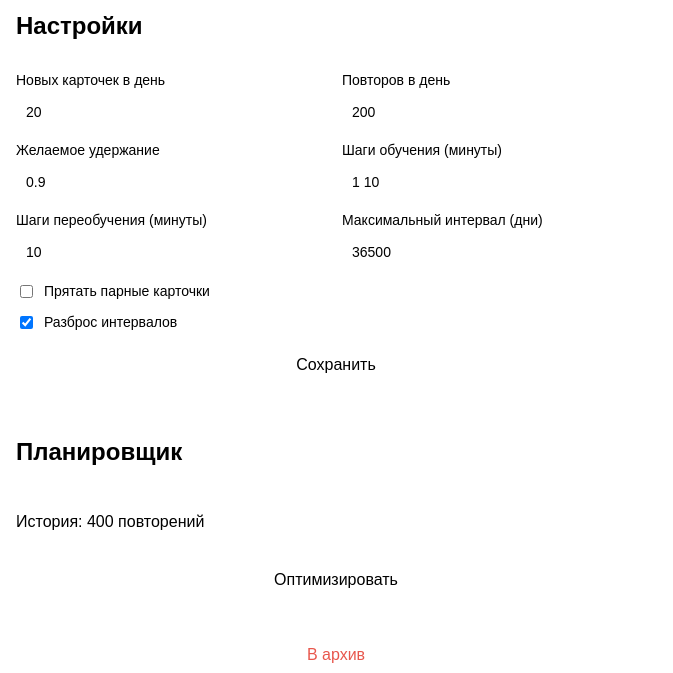
Test: FSRS optimizer › optimizes the deck and refreshes the scheduler state
(page scrolled)
Click the button "Оптимизировать" at (336, 580), box x1=16 y1=559 x2=656 y2=601
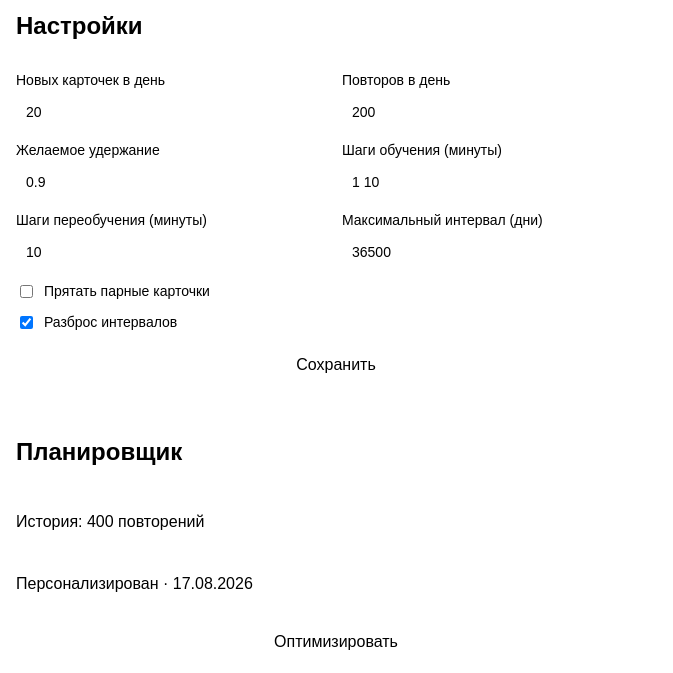
Expected: the text "Персонализирован · 17.08.2026" is shown, x1=16 y1=575 x2=253 y2=592
